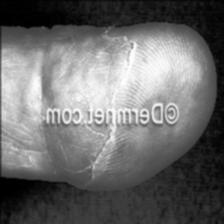Non-Cancerous Skin Condition: (76, 32, 142, 184)
